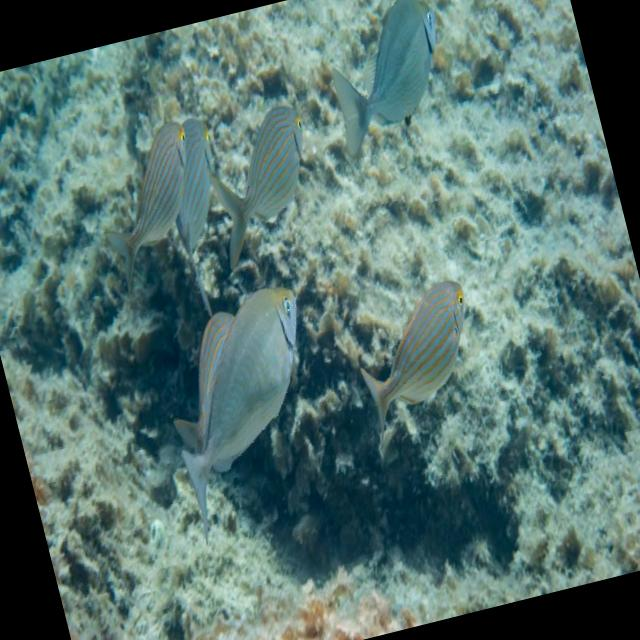Sokar Baligi: (300, 0, 471, 181), (338, 261, 498, 445), (190, 86, 338, 276)
